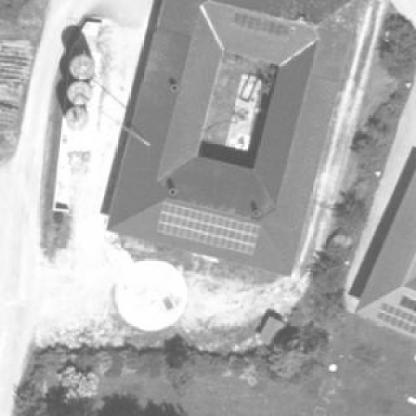solar-pv-panel: (157, 202, 259, 257), (232, 12, 290, 39), (376, 302, 416, 336), (399, 294, 416, 312)
